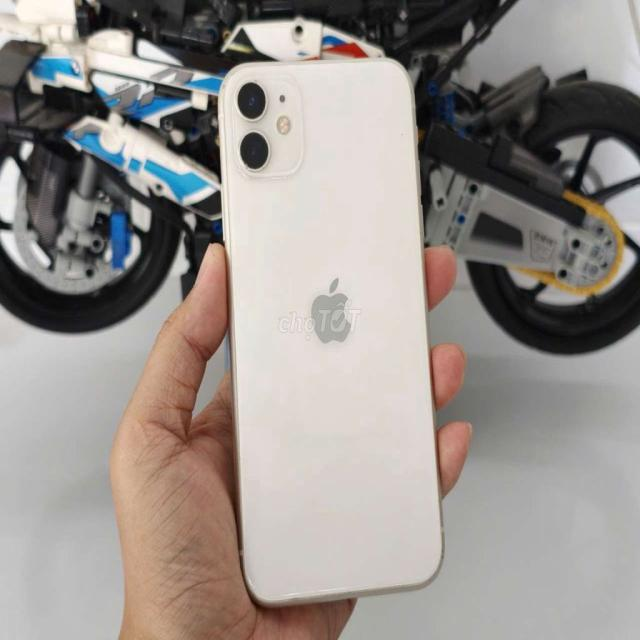gen_11: (212, 51, 454, 610)
